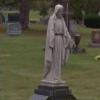Statue: (31, 3, 82, 94)
